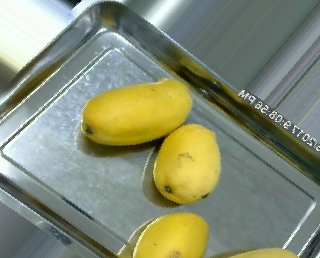Mango: (80, 79, 193, 144), (153, 123, 221, 203), (131, 212, 209, 256)
